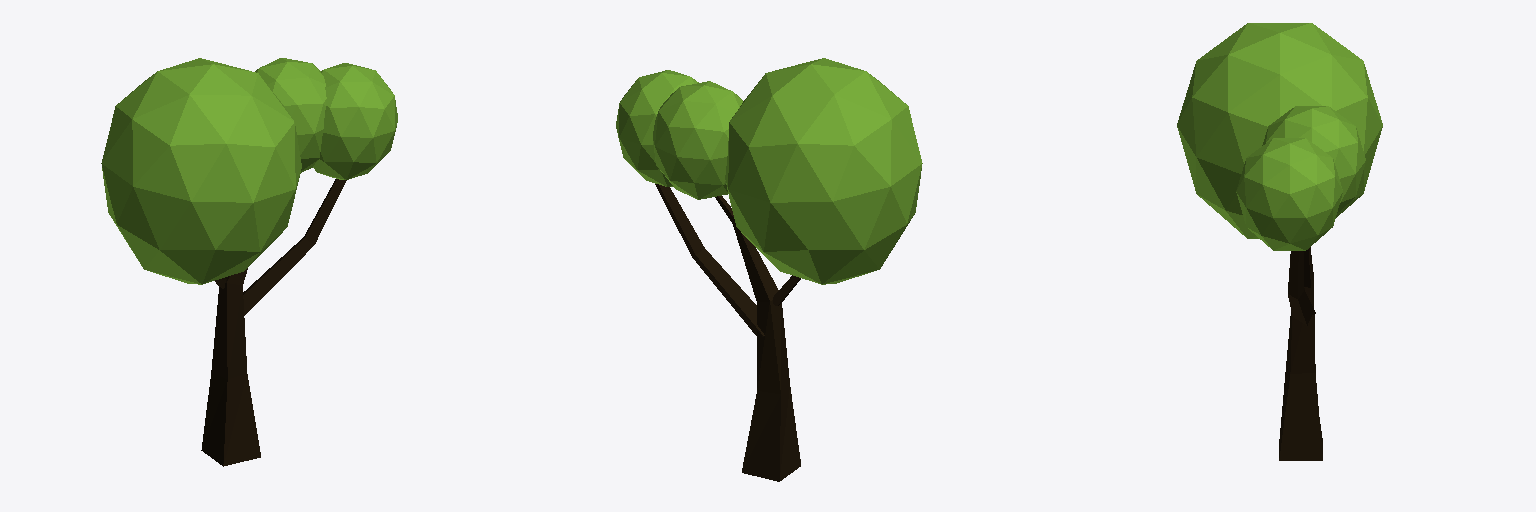
The model's file is BU_trees_published_004.obj.
The picture shows the model from 3 angles: view 1: azimuth 30°, elevation 25°; view 2: azimuth 150°, elevation 25°; view 3: azimuth 270°, elevation 25°; orthographic projection.
Parts seen in each view (by area): view 1: Tree_004_GEO; view 2: Tree_004_GEO; view 3: Tree_004_GEO.
Part boxes in pixels (x1,y1,x2,y2): Tree_004_GEO: (101, 58, 397, 466); Tree_004_GEO: (616, 58, 922, 481); Tree_004_GEO: (1177, 23, 1382, 460).
Bounding box in the file's own units: 4.18 × 5.81 × 2.69.